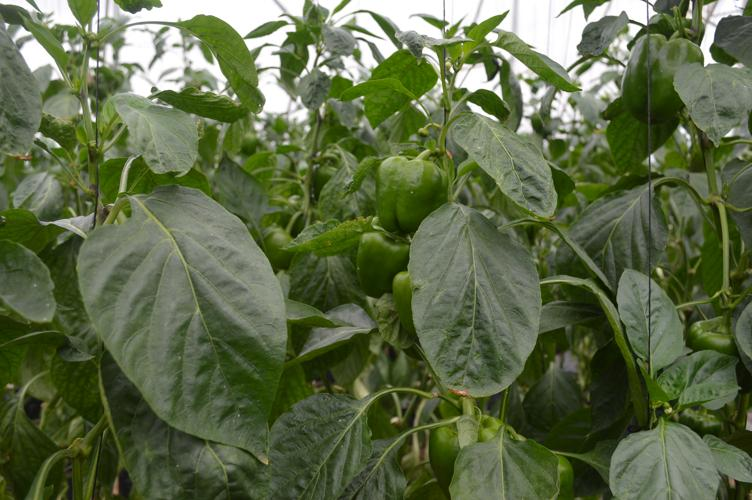BellPepper: (610, 24, 705, 128), (370, 149, 449, 240), (424, 412, 502, 500), (356, 226, 418, 306), (674, 315, 744, 373), (383, 276, 429, 343)
